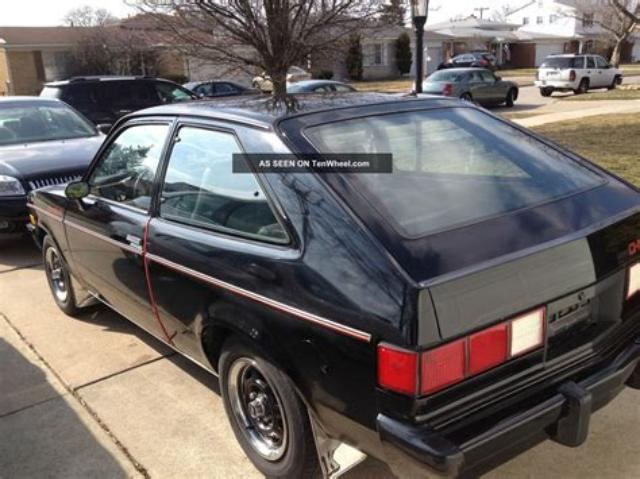chevette-1983: (28, 93, 639, 478)
